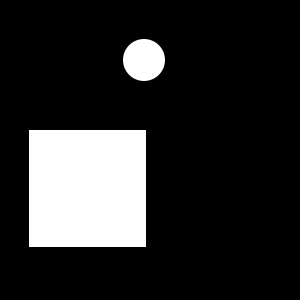circle: (29, 130, 146, 247), (57, 150, 89, 182)
rectangle: (123, 39, 165, 81)
